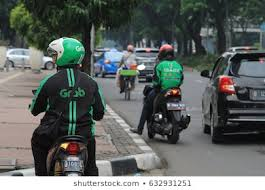helmet: (47, 37, 87, 68)
